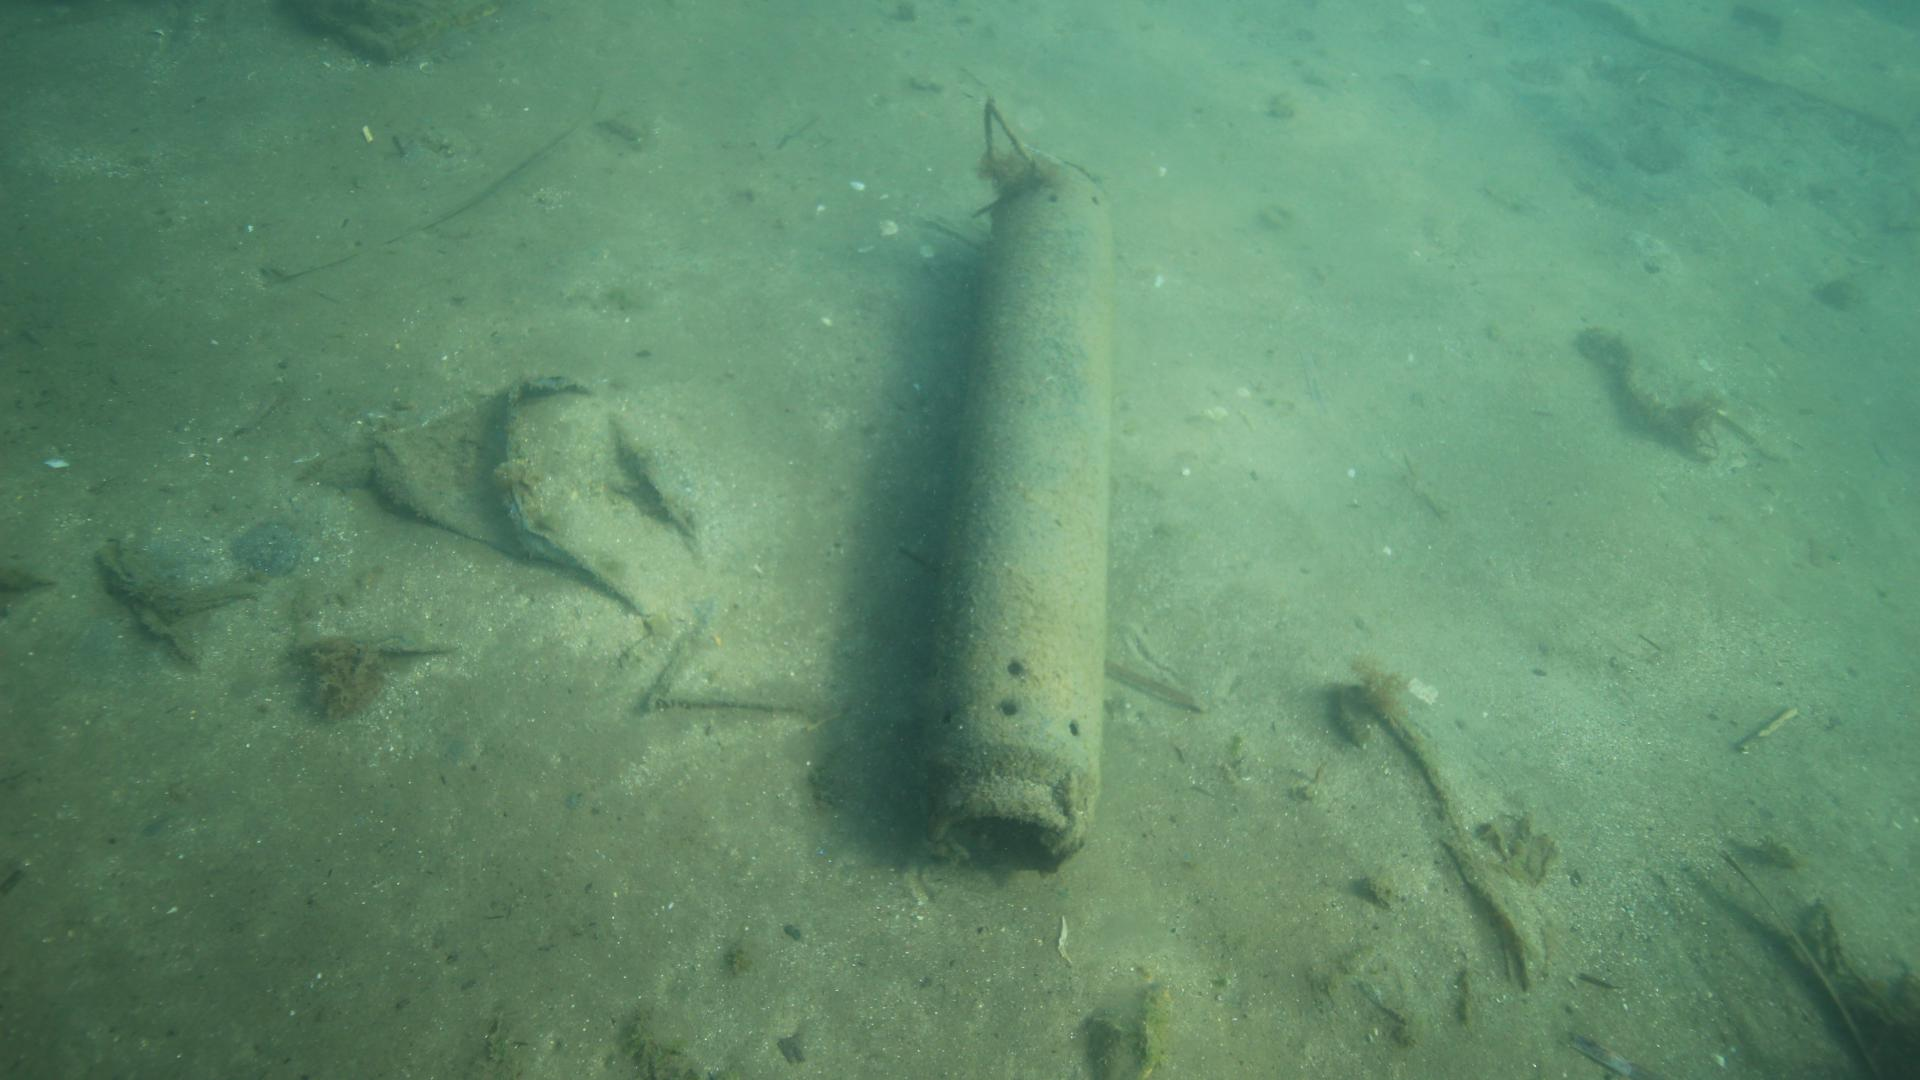eel fish trap: (919, 153, 1120, 874)
rope: (978, 96, 1036, 165)
